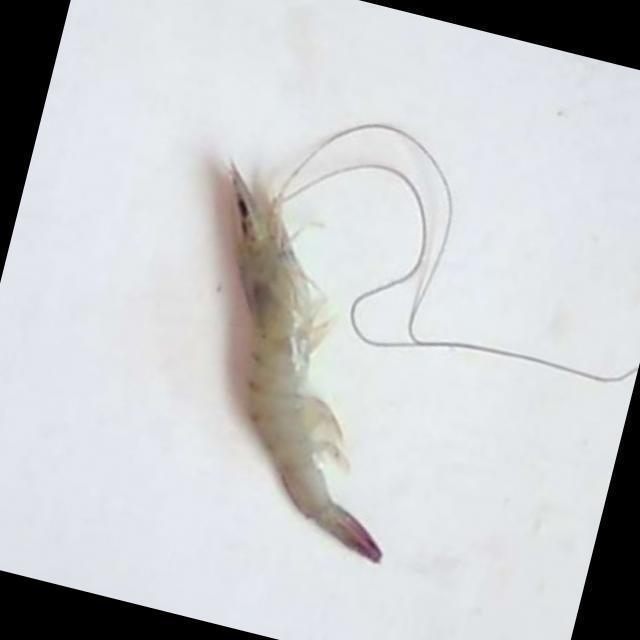shrimp: (228, 164, 381, 563)
